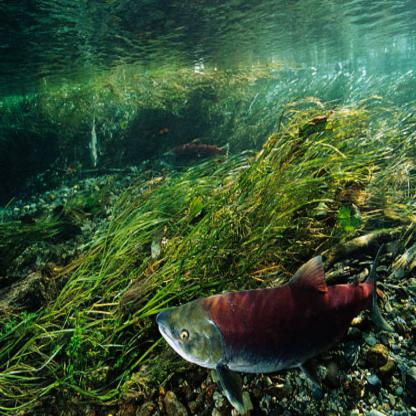sockeye: (161, 257, 401, 374)
